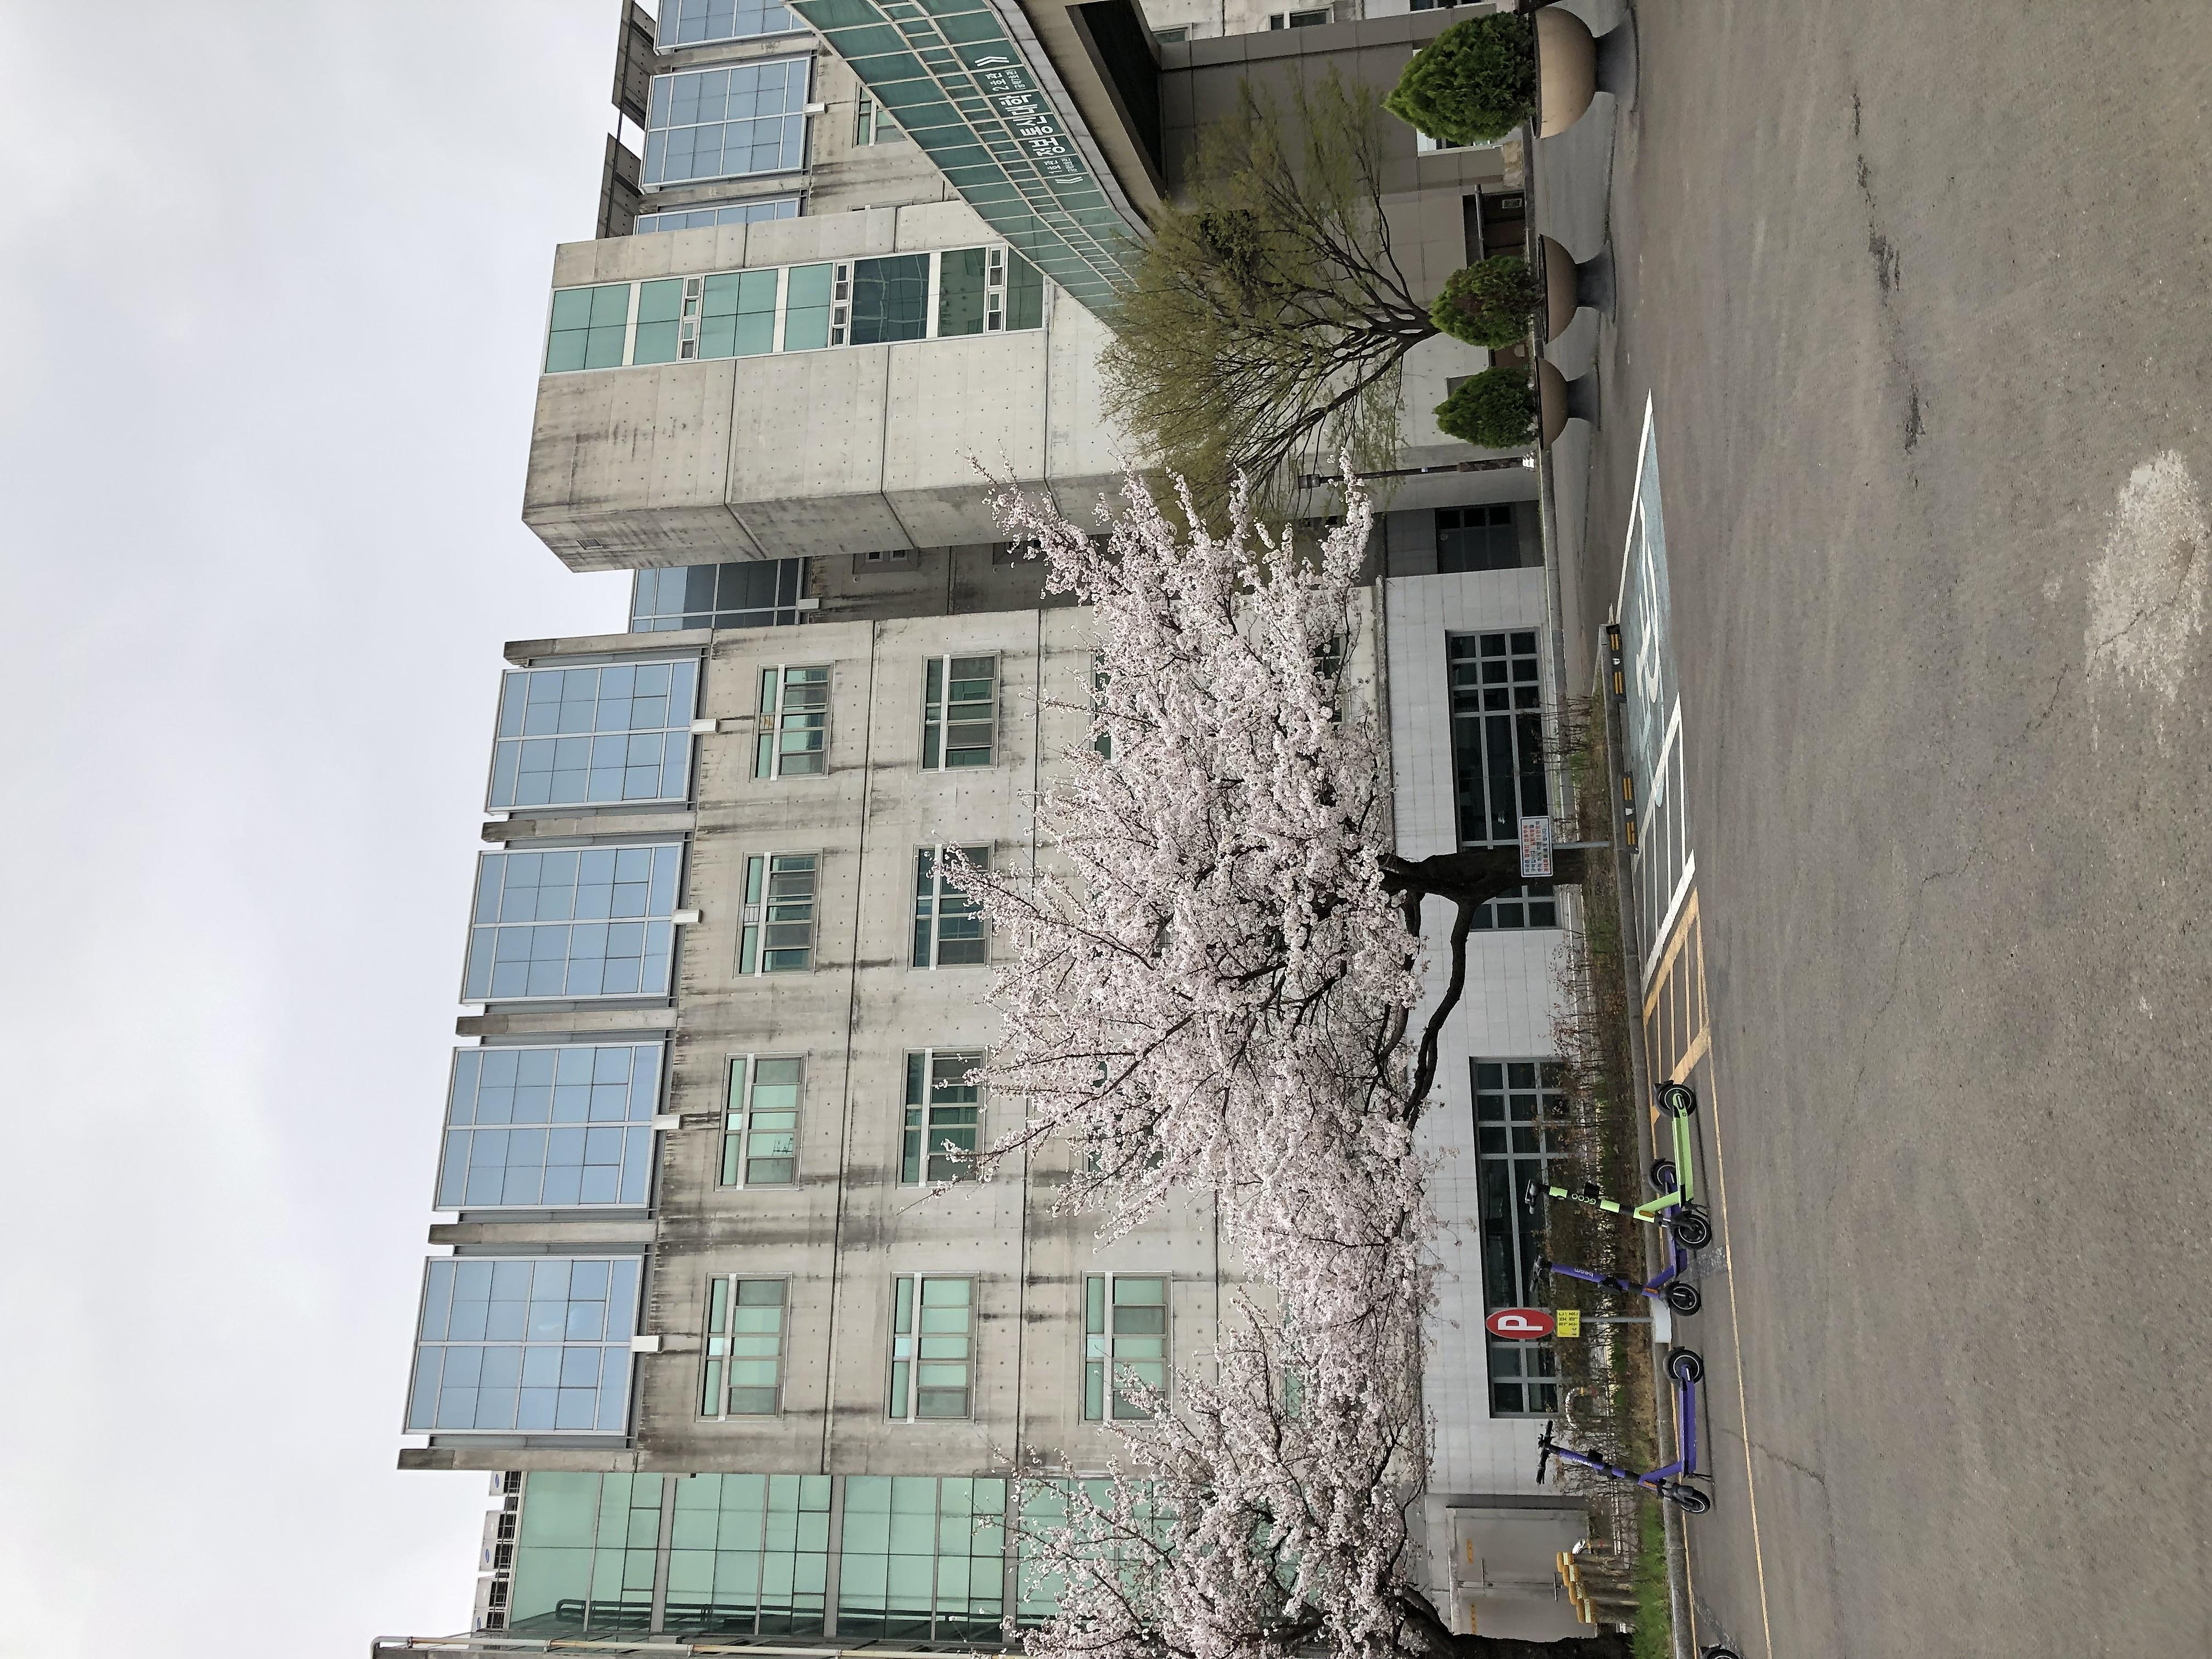building: (3, 209, 2212, 1279)
